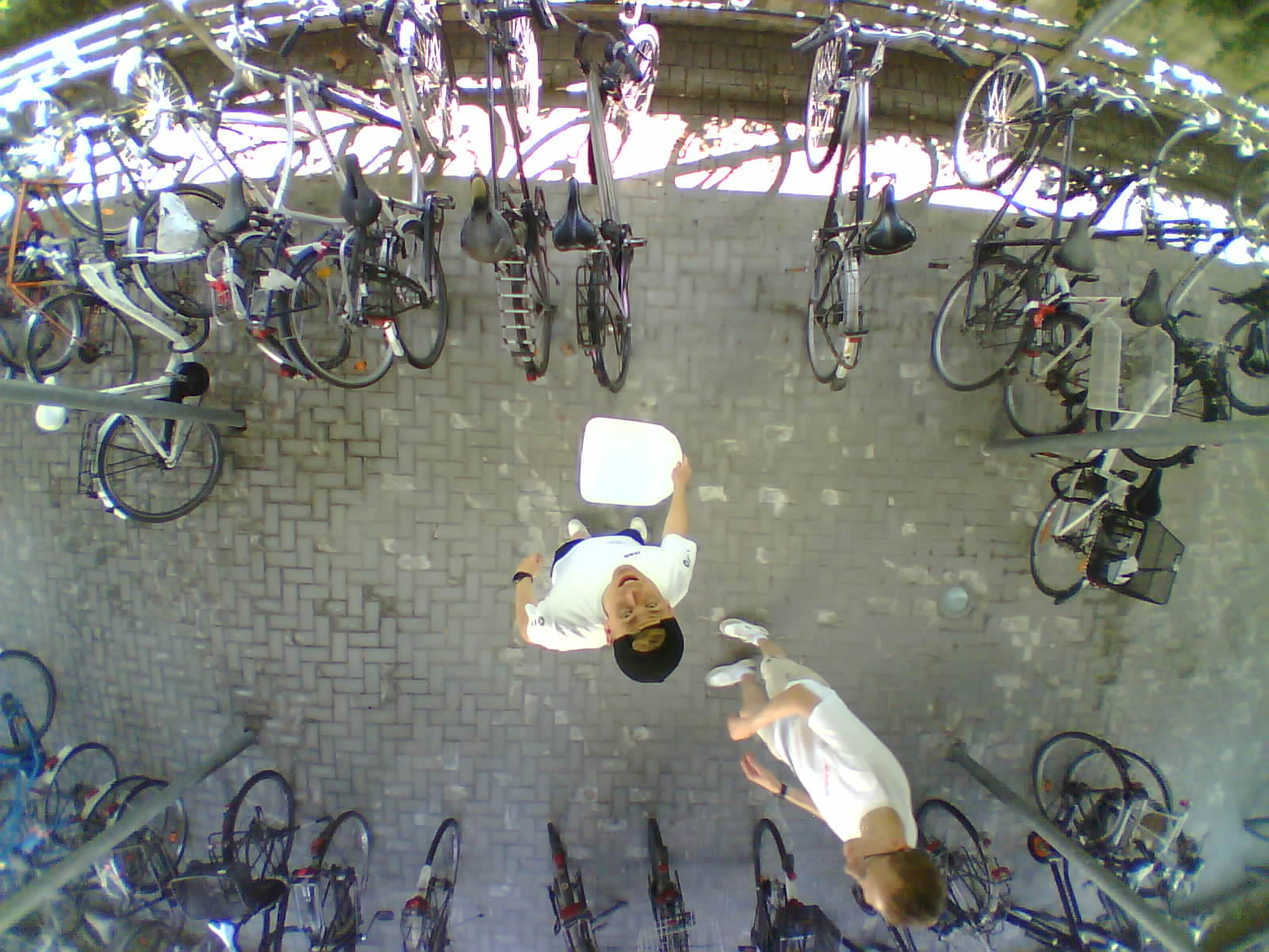bicylce: (66, 185, 238, 527), (1015, 333, 1232, 590), (789, 10, 924, 396), (982, 157, 1154, 435), (284, 38, 418, 389), (180, 116, 349, 374), (7, 112, 152, 391), (939, 52, 1057, 389), (467, 0, 568, 384), (1100, 212, 1249, 469), (568, 0, 651, 399), (382, 10, 472, 365), (1033, 730, 1172, 952), (1066, 745, 1186, 952)
saddle: (457, 166, 516, 273), (333, 150, 394, 234), (861, 175, 920, 255), (546, 171, 597, 263), (1053, 205, 1102, 279), (207, 167, 256, 238), (1121, 459, 1171, 528), (154, 184, 197, 260), (23, 372, 73, 435), (1126, 262, 1166, 331), (1233, 316, 1269, 385), (202, 918, 245, 952), (1123, 856, 1157, 897), (80, 907, 116, 944), (1186, 910, 1217, 945)
